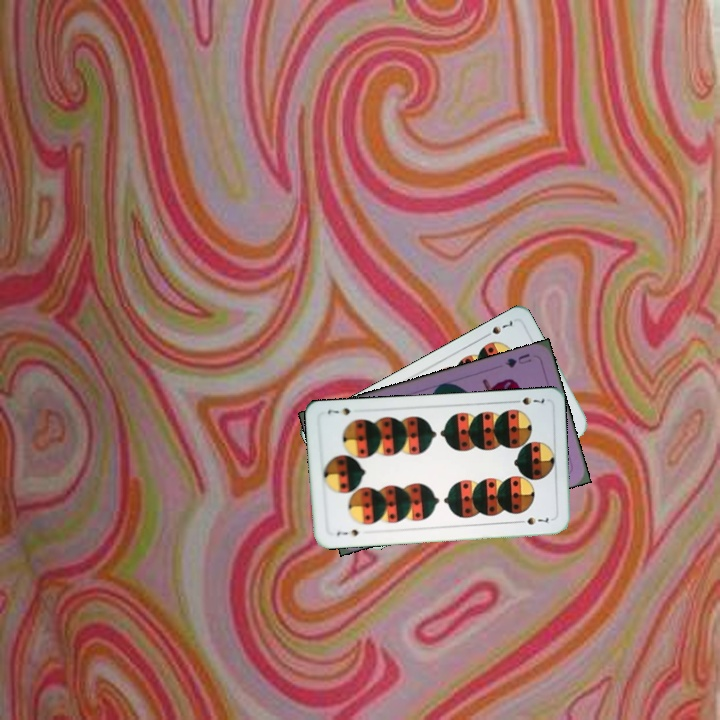GU: (501, 349, 534, 370)
S7: (479, 316, 515, 341), (508, 393, 547, 408), (333, 525, 361, 539)
